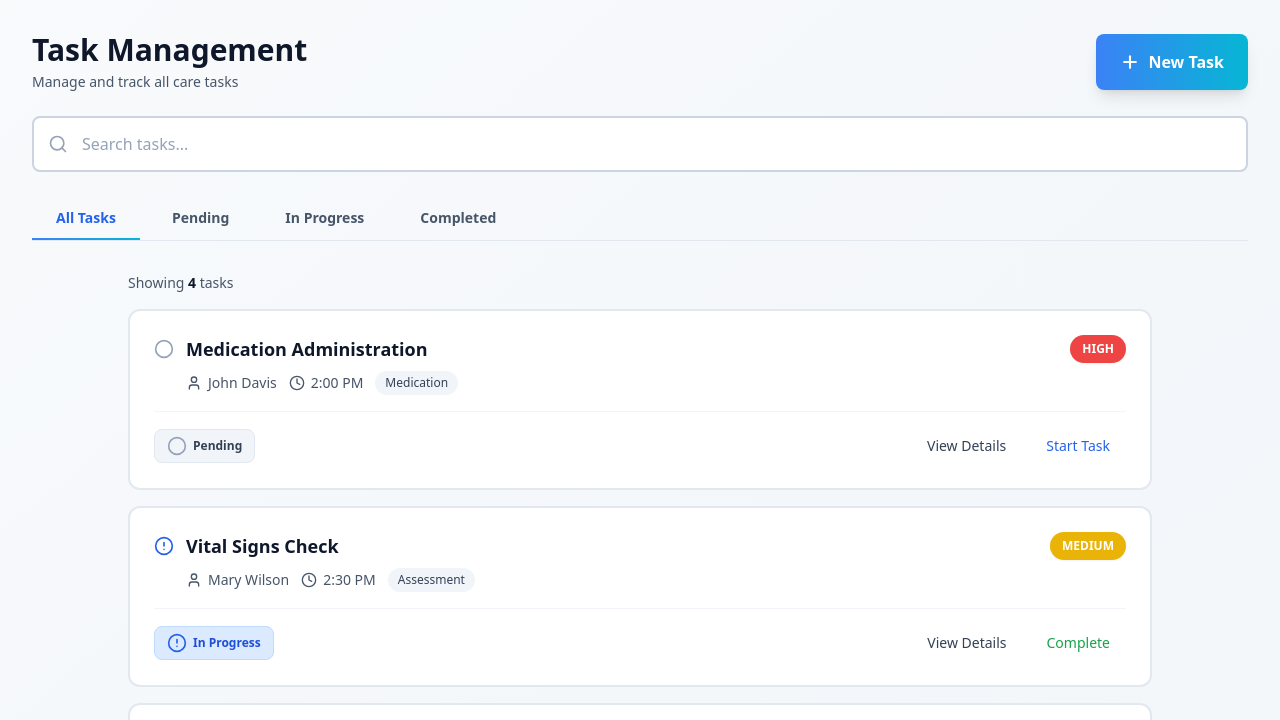
Test case: TaskManagement Component › filters tasks when clicking status tabs
// Click "In Progress" tab (Desktop version usually index 0 or 1 depending on DOM order)
Click the button "In Progress". click: (325, 218)
box: 261,196 -> 388,240
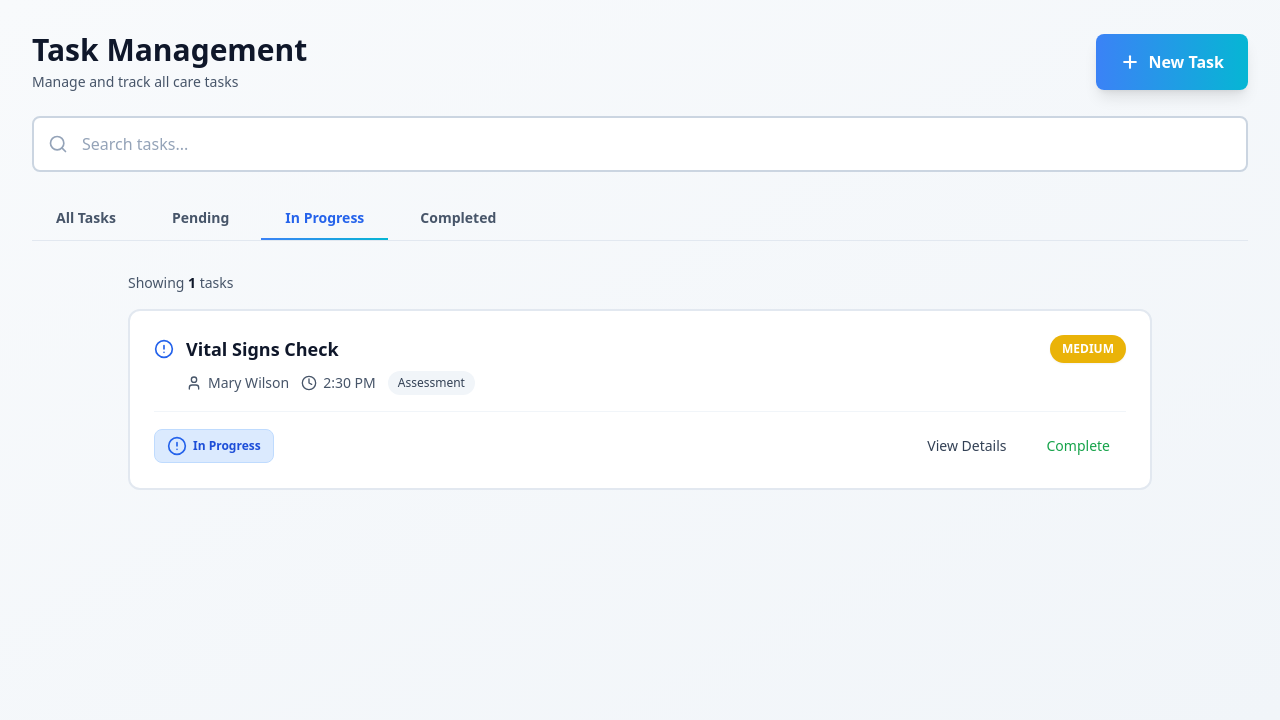
Expected: the heading "Vital Signs Check" is shown, 186,337 -> 339,361
Expected: the heading "Medication Administration" is gone
